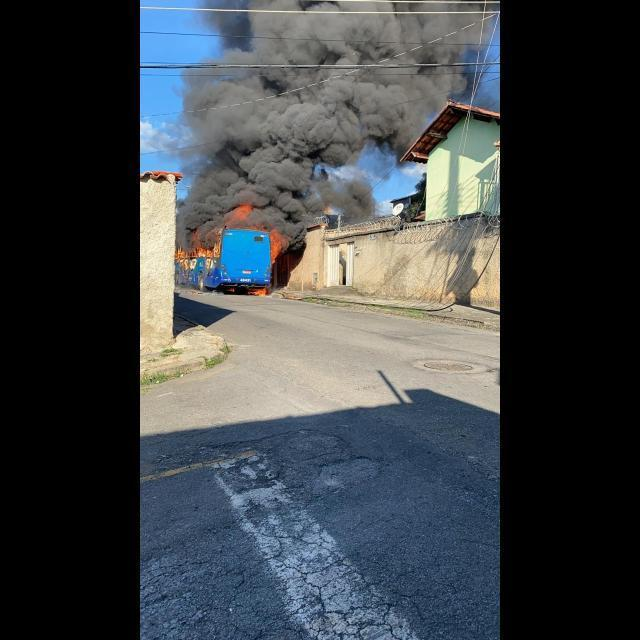Fire: (175, 203, 283, 264), (247, 288, 267, 296)
Smoke: (146, 0, 500, 252)
